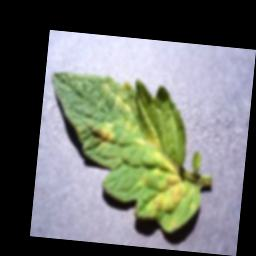Leaf_Mold: (150, 170, 192, 221), (131, 125, 167, 152), (90, 123, 120, 150)
